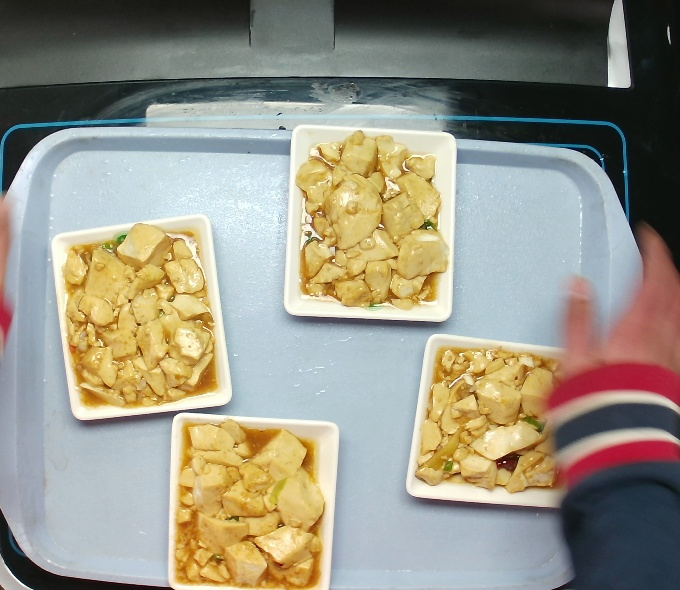wcq-DouFu: (61, 213, 217, 419), (297, 130, 444, 315), (420, 339, 579, 505), (175, 418, 319, 588)
